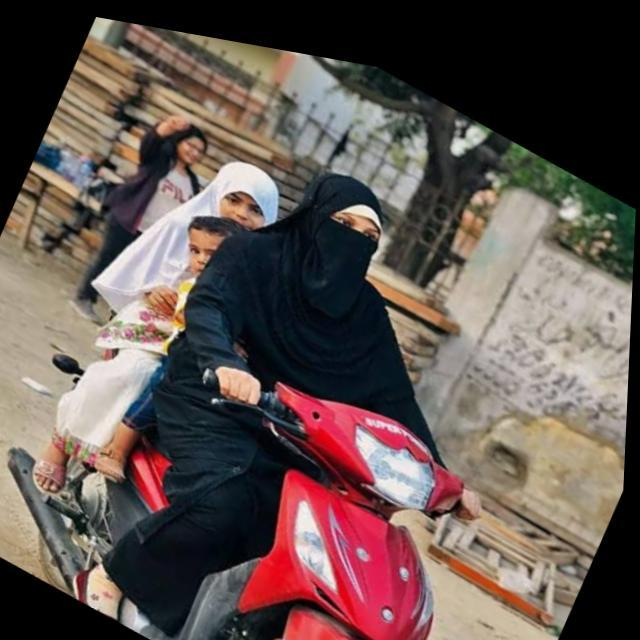Nonhelmet: (296, 159, 387, 284), (208, 157, 278, 240), (172, 214, 244, 286)
